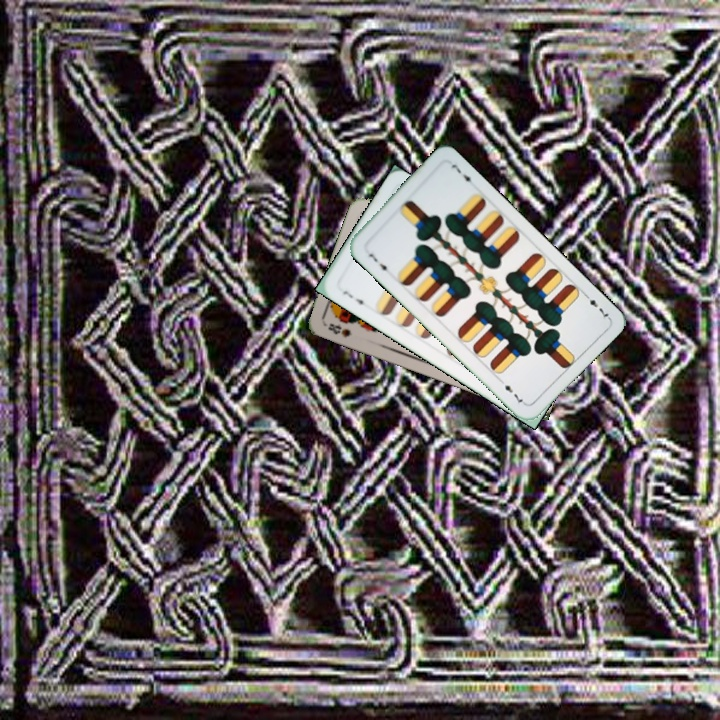E7: (580, 289, 612, 321), (365, 249, 391, 277), (339, 286, 369, 310)
S8: (324, 319, 354, 341)
